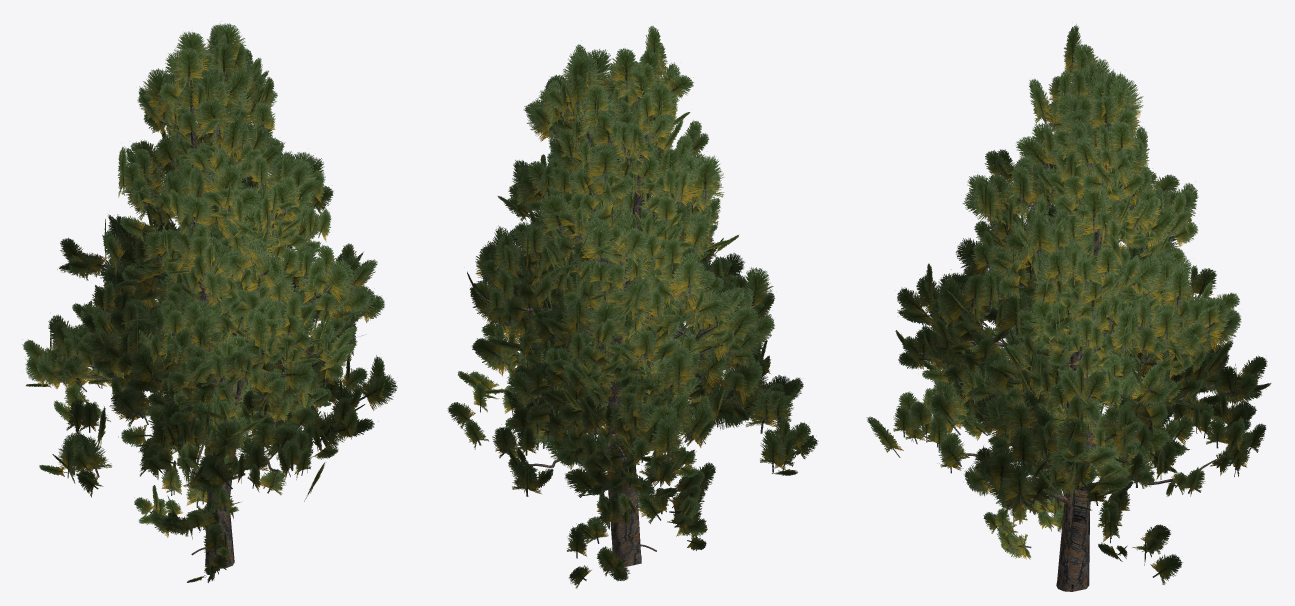
Rendered from cay-thong-nhe.glb.
The picture shows the model from 3 angles, left to right: view 1: azimuth 30°, elevation 25°; view 2: azimuth 150°, elevation 25°; view 3: azimuth 270°, elevation 25°; orthographic projection.
Visible parts, largest first — view 1: thong2_x_la, thong1_x_la, thong1_b_la, thong2_b_la, thong3_b_la, thong3_x_la, thong6_b_la, thong6_x_la, thong4_b_la, thong4_x_la, thong2_x_than, thong1_x_than; view 2: thong2_x_la, thong1_x_la, thong2_b_la, thong1_b_la, thong3_x_la, thong3_b_la, thong6_b_la, thong6_x_la, thong4_b_la, thong4_x_la, thong1_x_than, thong1_b_than (+1 smaller); view 3: thong1_x_la, thong2_x_la, thong1_b_la, thong2_b_la, thong4_b_la, thong4_x_la, thong3_b_la, thong3_x_la, thong6_b_la, thong6_x_la, thong1_b_than, thong1_x_than (+1 smaller).
Boxes of the visible parts, bbox=[...] form: thong2_x_la: bbox=[26, 23, 384, 497]; thong1_x_la: bbox=[22, 31, 390, 493]; thong1_b_la: bbox=[25, 51, 397, 501]; thong2_b_la: bbox=[42, 24, 377, 493]; thong3_b_la: bbox=[103, 173, 345, 487]; thong3_x_la: bbox=[99, 174, 338, 475]; thong6_b_la: bbox=[138, 382, 285, 580]; thong6_x_la: bbox=[134, 378, 281, 582]; thong4_b_la: bbox=[151, 206, 314, 444]; thong4_x_la: bbox=[152, 234, 331, 451]; thong2_x_than: bbox=[56, 81, 325, 563]; thong1_x_than: bbox=[82, 108, 288, 568]; thong2_x_la: bbox=[447, 44, 818, 511]; thong1_x_la: bbox=[458, 26, 803, 500]; thong2_b_la: bbox=[474, 49, 797, 497]; thong1_b_la: bbox=[467, 58, 770, 496]; thong3_x_la: bbox=[516, 190, 754, 461]; thong3_b_la: bbox=[515, 191, 768, 469]; thong6_b_la: bbox=[566, 396, 715, 588]; thong6_x_la: bbox=[561, 395, 712, 583]; thong4_b_la: bbox=[504, 260, 702, 440]; thong4_x_la: bbox=[514, 252, 697, 454]; thong1_x_than: bbox=[477, 97, 729, 566]; thong1_b_than: bbox=[606, 128, 647, 566]; thong1_x_la: bbox=[872, 24, 1267, 517]; thong2_x_la: bbox=[897, 69, 1266, 500]; thong1_b_la: bbox=[866, 58, 1271, 496]; thong2_b_la: bbox=[895, 70, 1253, 503]; thong4_b_la: bbox=[982, 245, 1170, 496]; thong4_x_la: bbox=[974, 277, 1159, 493]; thong3_b_la: bbox=[967, 196, 1189, 515]; thong3_x_la: bbox=[953, 207, 1194, 506]; thong6_b_la: bbox=[992, 410, 1182, 584]; thong6_x_la: bbox=[983, 411, 1173, 575]; thong1_b_than: bbox=[1058, 101, 1096, 591]; thong1_x_than: bbox=[922, 313, 1214, 591].
Size of the model in its own units: 8.53 by 12.98 by 9.06.
Materials: 2 (2 with a texture image).
